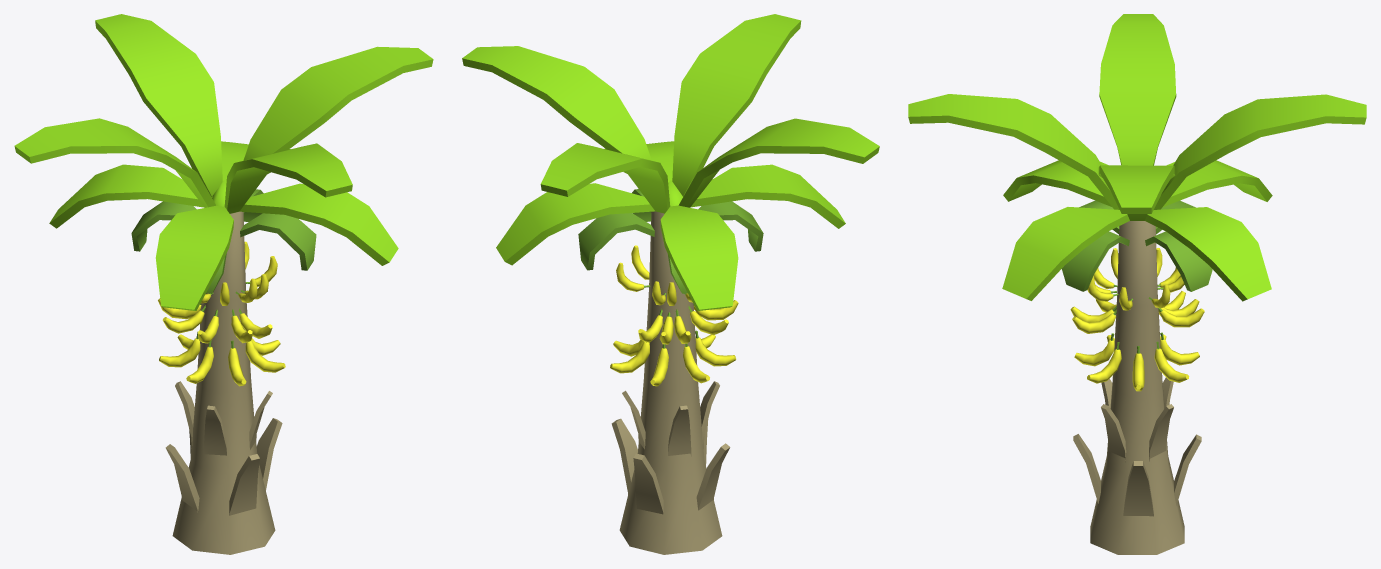
File: TreeBanana2.fbx
3 renders of one model, left to right at view 1: azimuth 30°, elevation 25°; view 2: azimuth 150°, elevation 25°; view 3: azimuth 270°, elevation 25°, orthographic.
Parts seen in each view (by area): view 1: TreeBananaSeparated.001; view 2: TreeBananaSeparated.001; view 3: TreeBananaSeparated.001.
Boxes of the visible parts, x1,y1,x2,y2 form: TreeBananaSeparated.001: (14,14,433,554); TreeBananaSeparated.001: (462,14,879,554); TreeBananaSeparated.001: (908,14,1366,554).
Size of the model in its own units: 189 by 196 by 189.
